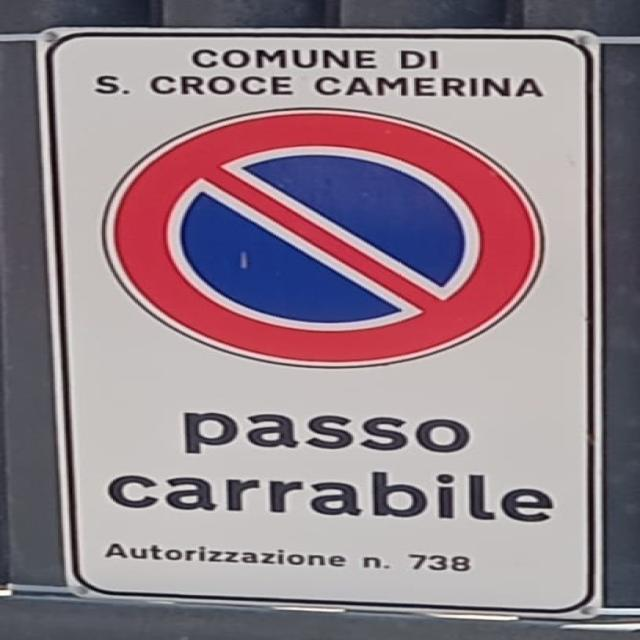forb_stopping: (98, 101, 548, 370)
